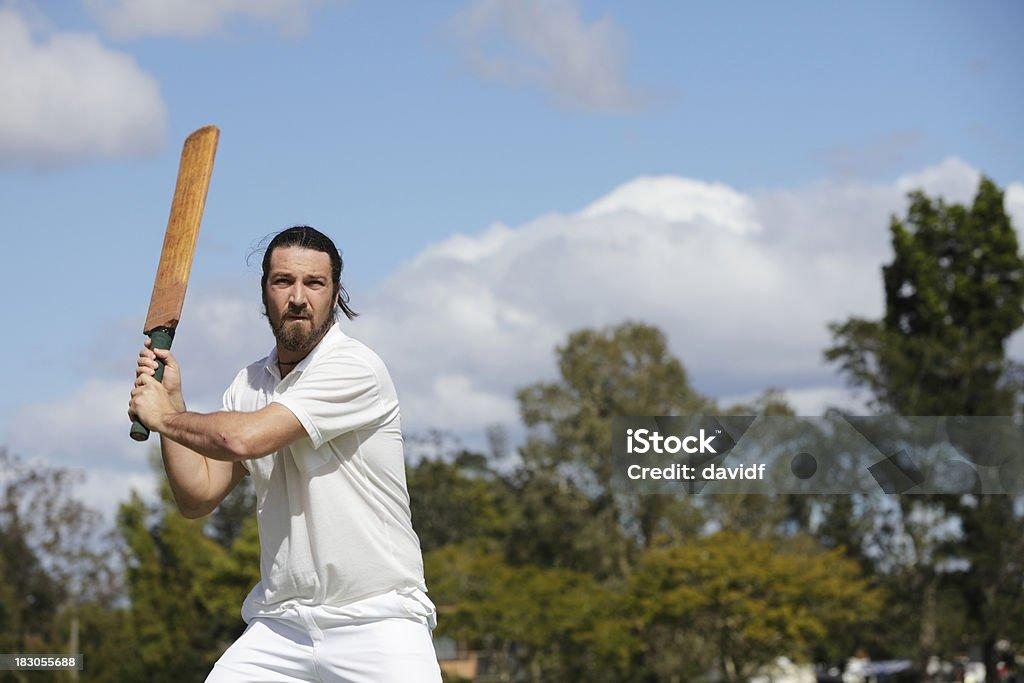batsman: (86, 152, 494, 682)
